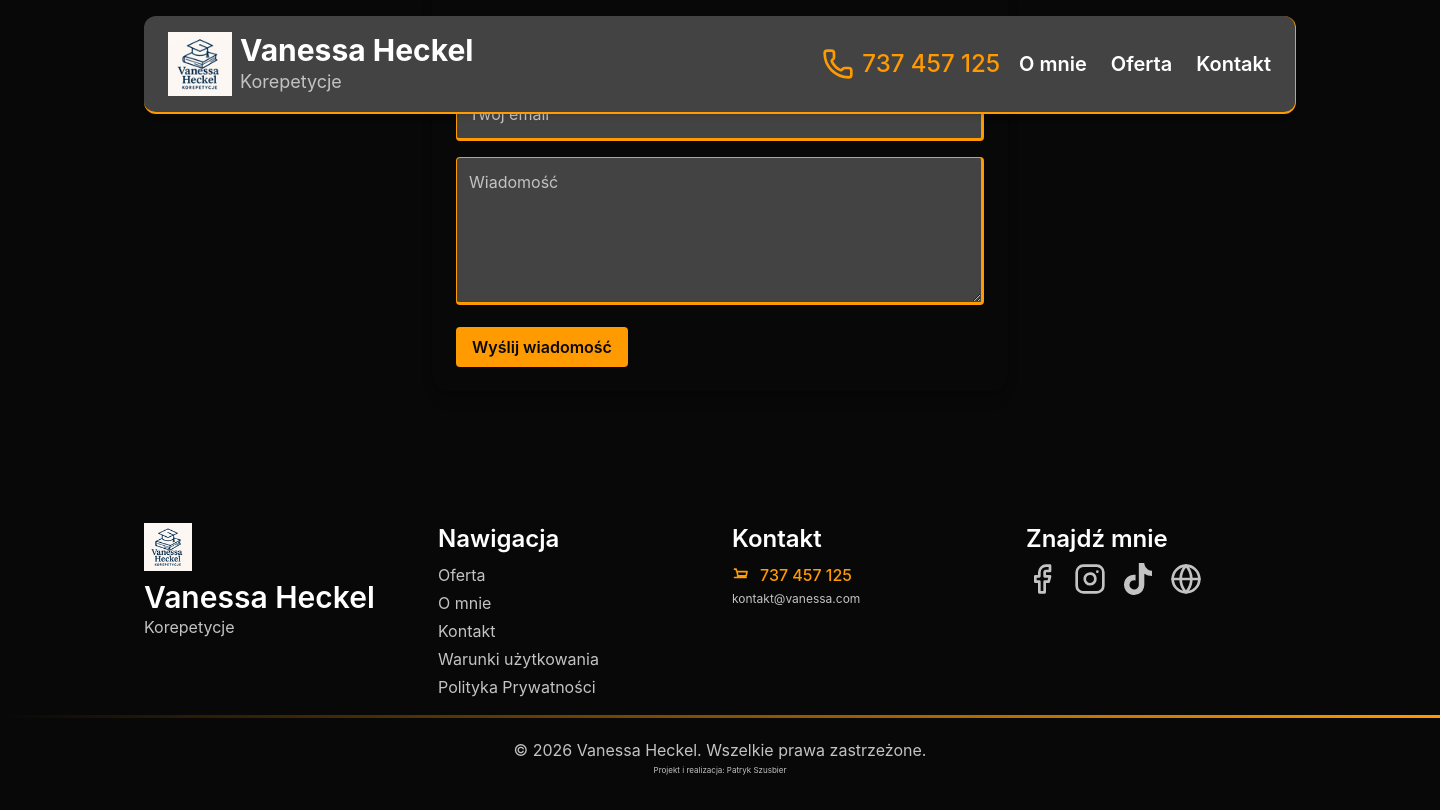
Test: stopka otwiera właściwy dokument w modalu, a zamknięcie go usuwa
(page scrolled)
Expected: the footer is shown, [0,471,1439,809]
What coordinates should you click on to do the following:
click the button "Polityka Prywatności"
I would click on:
 (517, 687)
Its box is [438,675,596,699].
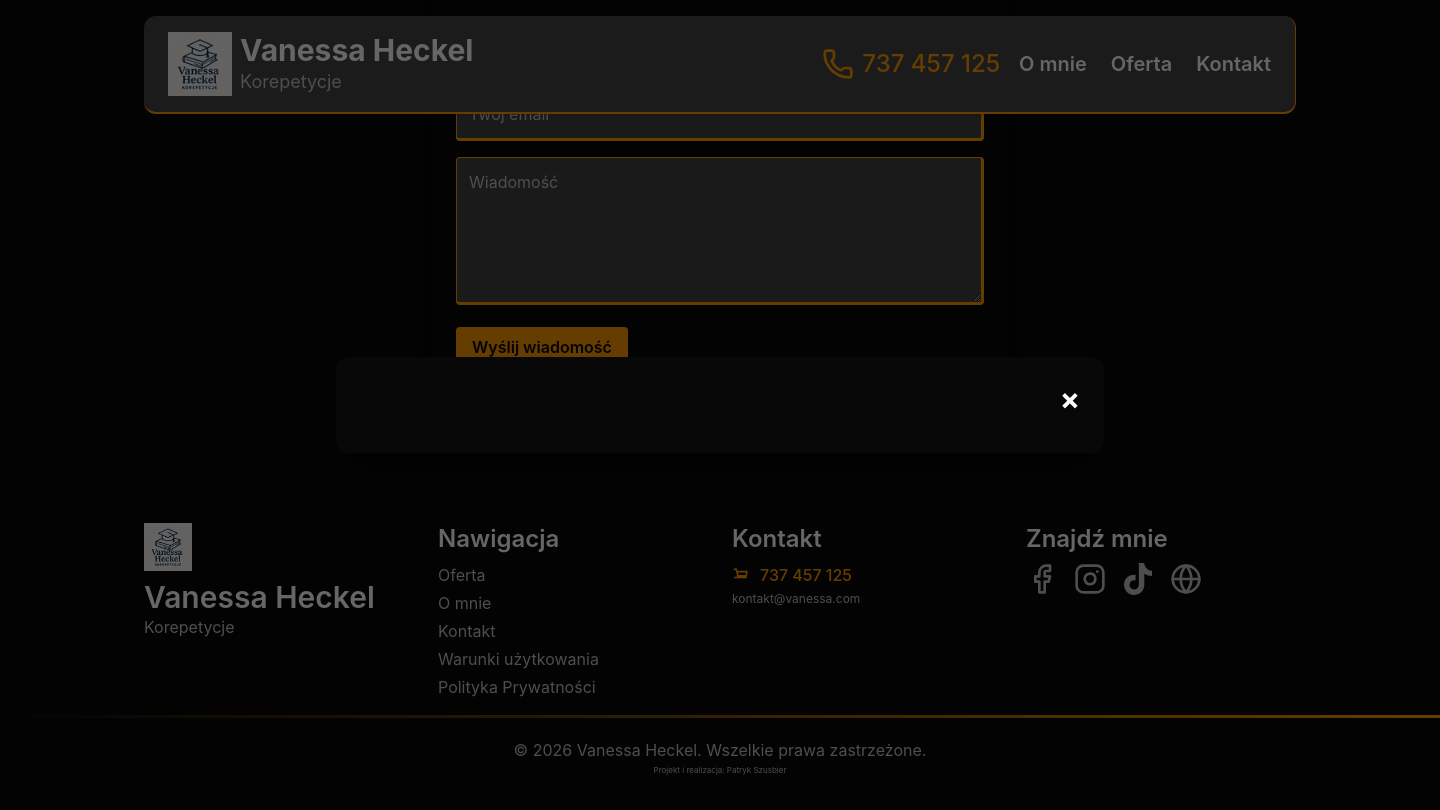
Expected: the dialog is shown
What coordinates should you click on to do the following:
click the button named "Zamknij"
I would click on:
 (1070, 399)
Its box is [1052,373,1088,425].
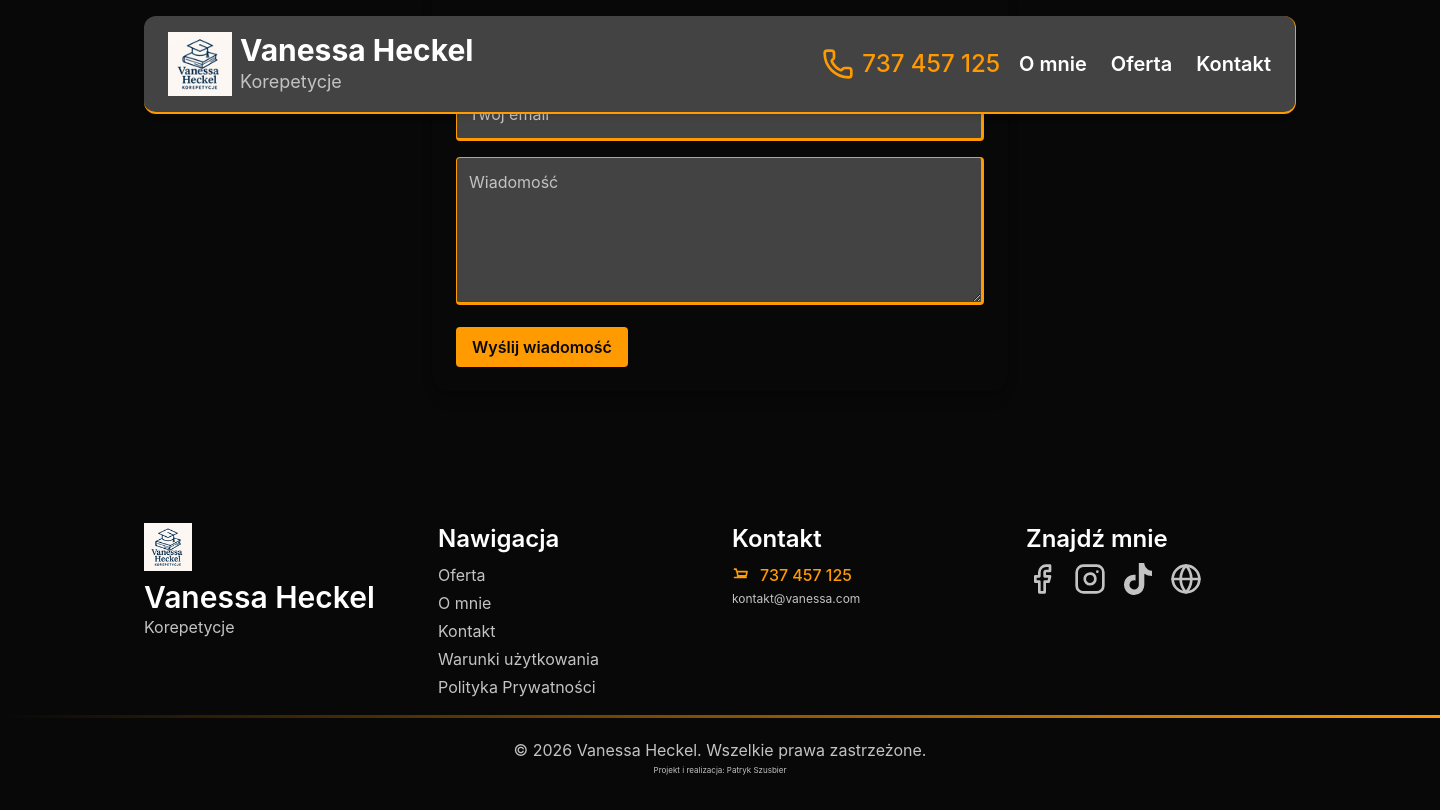
Expected: the dialog is gone
